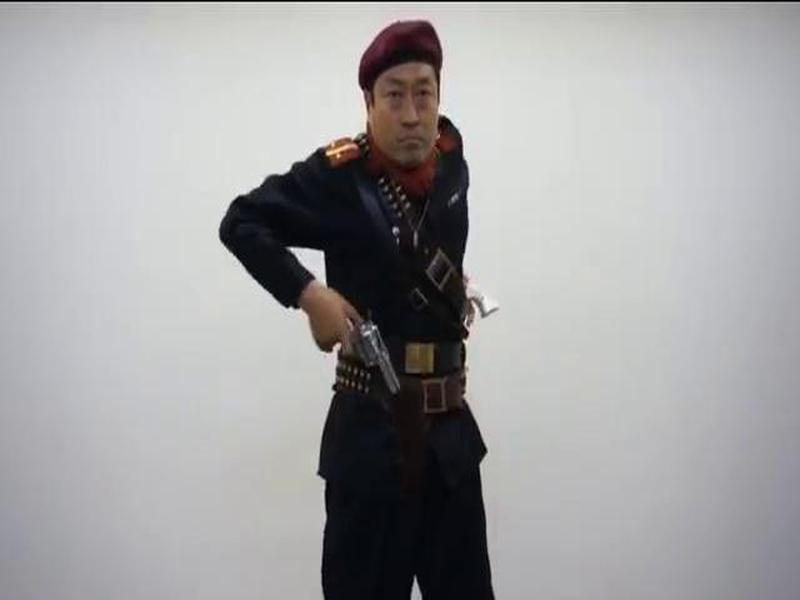Revolver: (334, 295, 410, 424)
